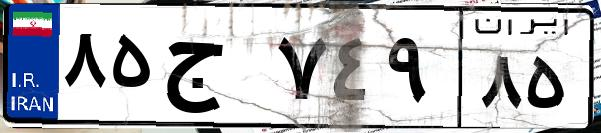4: (330, 28, 385, 110)
5: (525, 38, 570, 115), (110, 28, 158, 98)
7: (270, 28, 330, 110)
8: (57, 26, 110, 100), (475, 38, 525, 113)
9: (385, 28, 445, 110)
ج: (158, 20, 270, 120)
